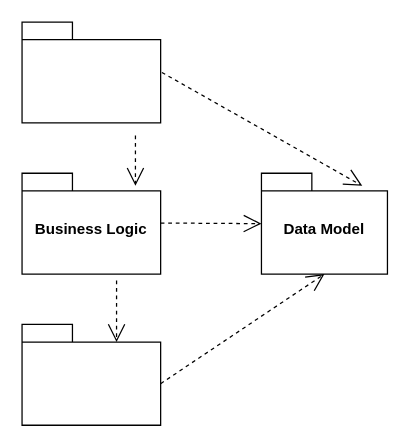
Some shapes in this 410 by 447 pixel diagram are drawn without their labels. Each missing label, with the centre of its shape:
Data Access: [91,374]
Graphical User Interface: [91,72]
